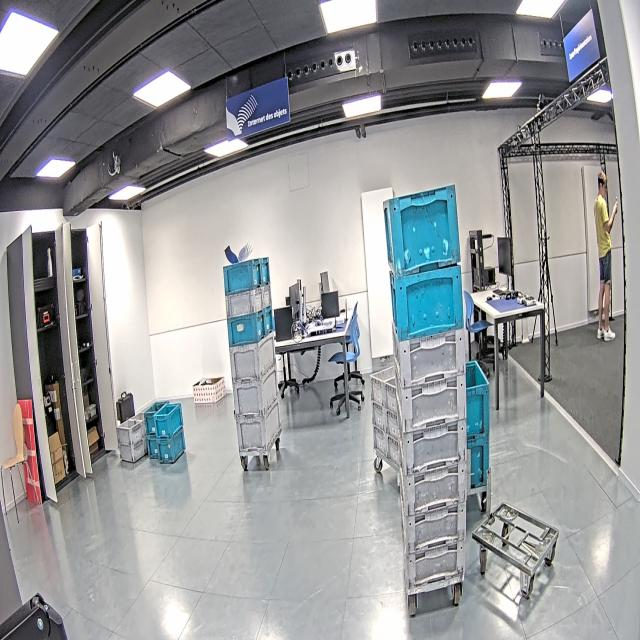Box4G: (235, 399, 282, 450), (229, 332, 276, 379), (232, 368, 278, 414)
Box8G: (372, 394, 471, 474), (372, 362, 466, 433), (398, 432, 472, 516), (392, 323, 470, 387), (224, 288, 264, 317), (118, 437, 146, 464), (116, 419, 144, 445), (259, 282, 273, 308)
BoxB4: (381, 187, 461, 277), (390, 264, 468, 339)
BoxB8: (226, 310, 266, 349), (222, 258, 262, 295), (156, 426, 186, 463), (154, 403, 184, 437), (144, 401, 170, 433), (258, 255, 271, 285), (262, 304, 274, 336), (146, 432, 160, 458)
